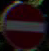No entry: (5, 6, 43, 39)
